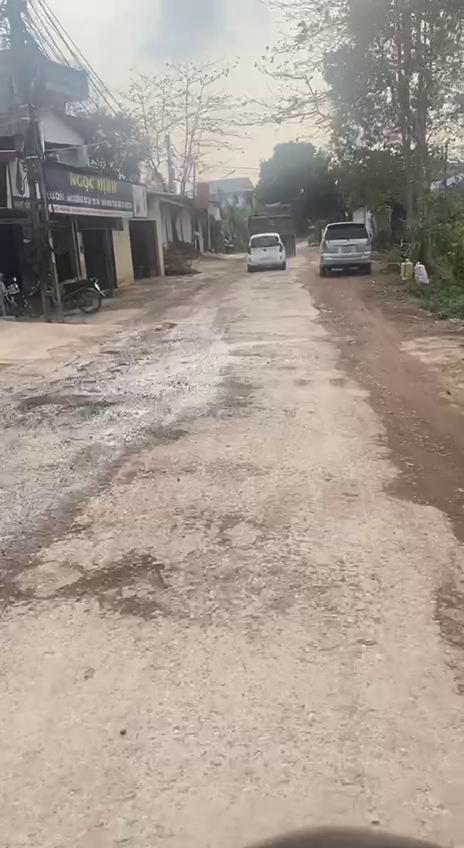pothole: (47, 554, 174, 624), (210, 508, 267, 550)
